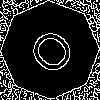O: (25, 25, 86, 85)
